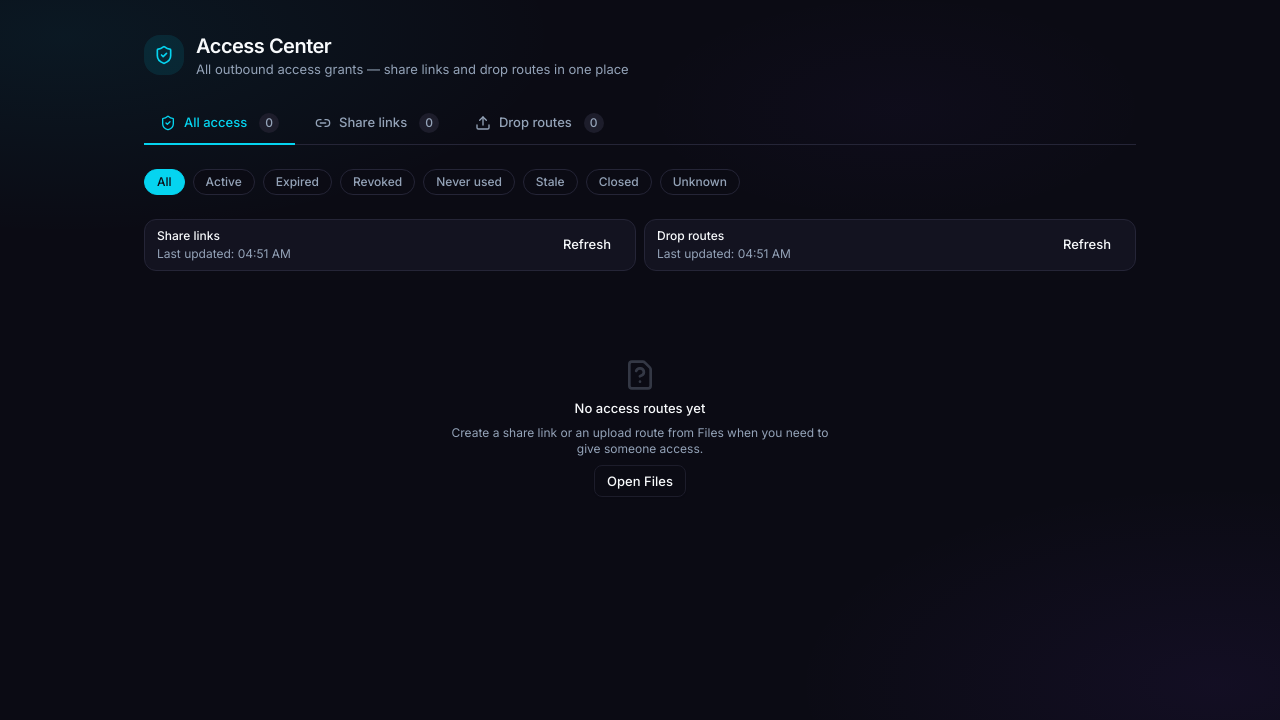
Scenario: AccessCenter truthful source states › marks a previously successful empty source stale with its last update time when refresh fails
Check: the text "No access routes yet" is shown, box [575,399,705,417]
Check: the text "Last updated: 04:51 AM" is shown 2 times, box [157,246,291,262]; [657,246,791,262]
Click the button with aria-label "Refresh share links" at x=587, y=245, box [551,229,623,261]
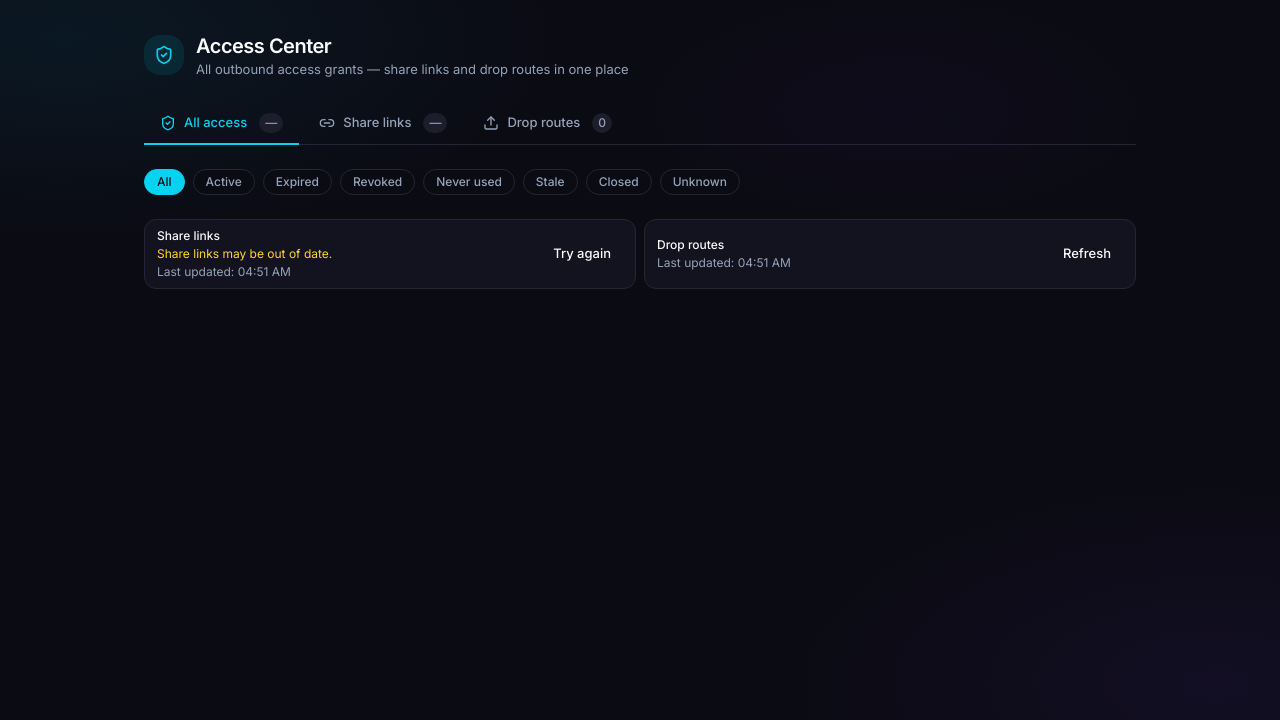
Check: the text "Last updated: 04:51 AM" below "Share links may be out of date." is shown, box [157,264,238,279]
Check: the text "Share links may be out of date." is shown, box [157,246,332,262]
